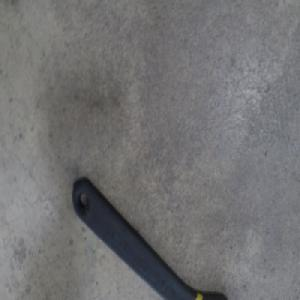AdjustableWrench: (73, 178, 229, 300)
